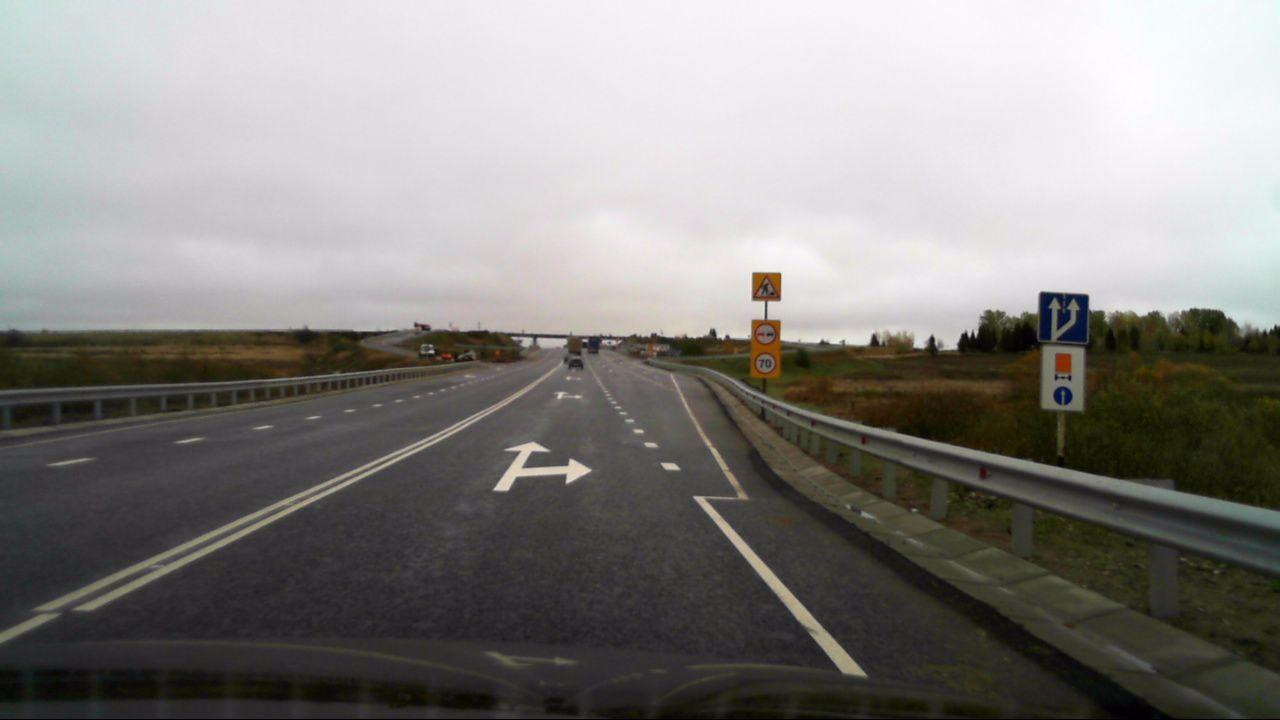1_25: (753, 272, 781, 301)
3_20: (754, 322, 777, 346)
3_24: (755, 352, 778, 374)
4_8_1: (1040, 346, 1087, 411)
5_15_3: (1037, 290, 1091, 346)
